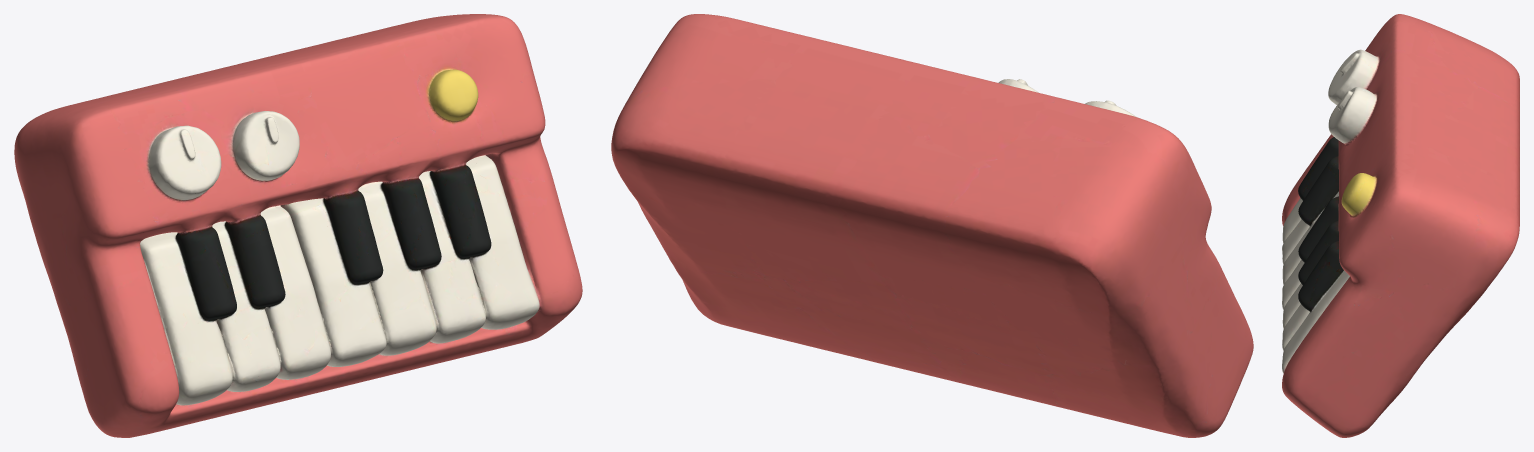
The model's file is keyboard.glb.
The picture shows the model from 3 angles, left to right: view 1: azimuth 30°, elevation 25°; view 2: azimuth 150°, elevation 25°; view 3: azimuth 270°, elevation 25°; orthographic projection. The views are drawn at different scales.
Size of the model in its own units: 1.9 by 1.19 by 1.01.
1 material, 1 textured.
